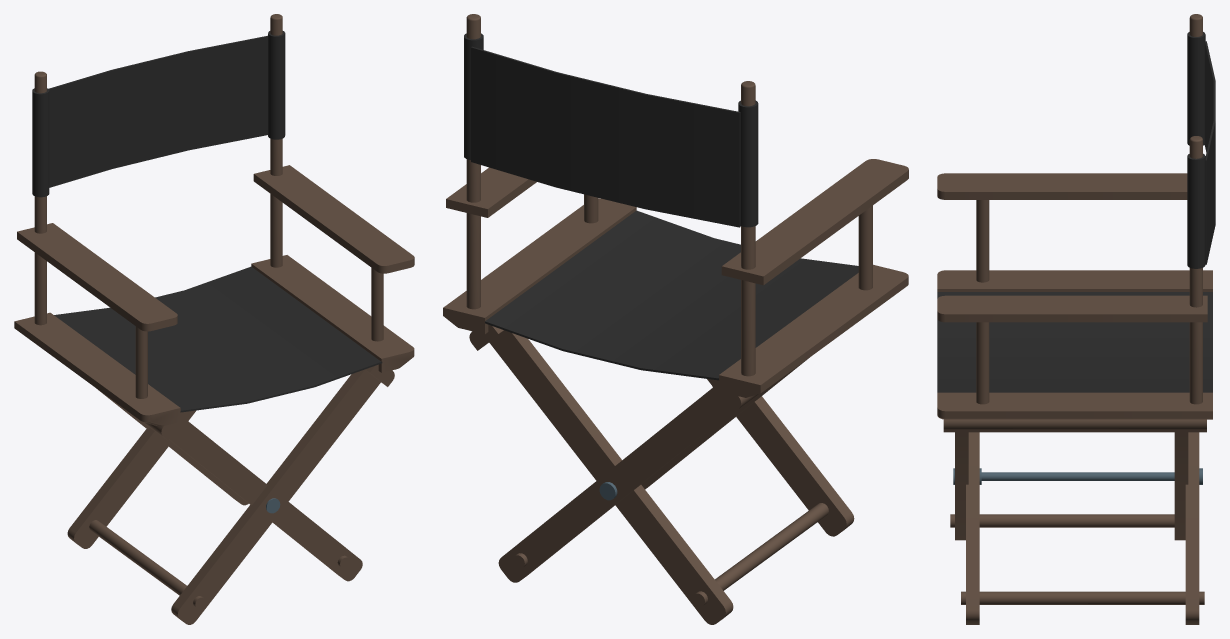
Rendered from chair.fbx.
3 views of the same model, side by side, from view 1: azimuth 30°, elevation 25°; view 2: azimuth 150°, elevation 25°; view 3: azimuth 270°, elevation 25° (orthographic). The views are drawn at different scales.
Parts seen in each view (by area): view 1: SM_shair; view 2: SM_shair; view 3: SM_shair.
Part boxes in pixels (x1,y1,x2,y2): SM_shair: (14,14,414,624); SM_shair: (443,14,908,624); SM_shair: (937,14,1215,624).
Size of the model in its own units: 60.71 by 101 by 50.66.
